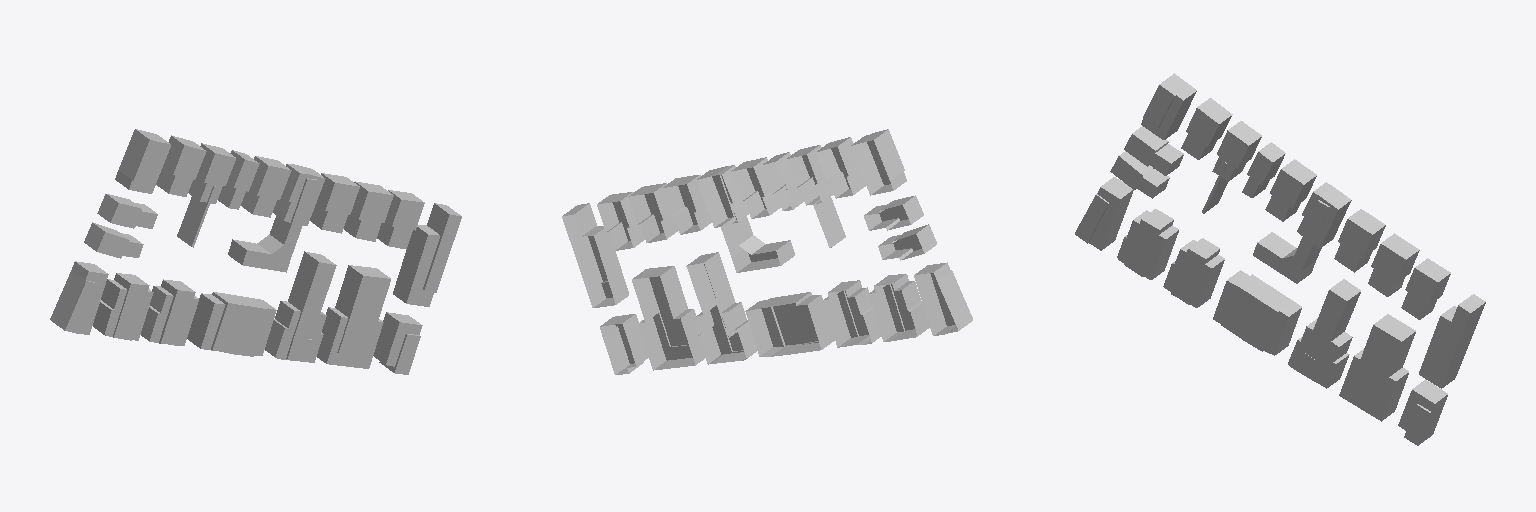
File: export_fin_moit.obj
3 renders of one model, left to right at view 1: azimuth 30°, elevation 25°; view 2: azimuth 150°, elevation 25°; view 3: azimuth 330°, elevation 25°, orthographic.
Visible parts, largest first — view 1: 30non, 4non, 37non, 2, 12, mur36non, mur1, mur38, mur29non, 10non, 21non, mur18 (+26 smaller); view 2: mur36non, mur38, mur29non, mur1, mur3non, mur14non, mur18, mur9non, mur27, mur20non, mur11non, 4non (+13 smaller); view 3: 30non, 4non, 37non, 2, 12, 10non, mur38, 21non, mur3non, mur29non, mur36non, 15non (+26 smaller).
Part boxes in pixels (x1,y1,x2,y2): 30non: (327,276,390,368); 4non: (201,303,276,356); 37non: (275,262,336,362); 2: (243,173,325,272); 12: (406,215,461,306); mur36non: (265,251,335,358); mur1: (393,203,460,302); mur38: (228,164,323,264); mur29non: (317,265,390,363); 10non: (105,284,153,340); 21non: (149,290,198,345); mur18: (177,143,235,246); mur36non: (686,252,756,364); mur38: (696,165,794,272); mur29non: (632,266,704,370); mur1: (562,203,628,307); mur3non: (745,292,834,356); mur14non: (914,262,972,335); mur18: (786,145,845,247); mur9non: (869,274,929,341); mur27: (851,129,906,195); mur20non: (823,280,881,347); mur11non: (600,314,648,374); 4non: (761,303,818,346); 30non: (1339,325,1400,420); 4non: (1213,281,1288,355); 37non: (1288,290,1346,388); 2: (1253,192,1337,283); 12: (1419,305,1470,388); 10non: (1117,219,1165,279); mur38: (1257,182,1351,283); 21non: (1163,249,1211,307); mur3non: (1227,270,1301,354); mur29non: (1354,314,1415,421); mur36non: (1298,279,1360,387); 15non: (1075,187,1119,250).
Bounding box in the file's own units: 162 × 116 × 10.99.